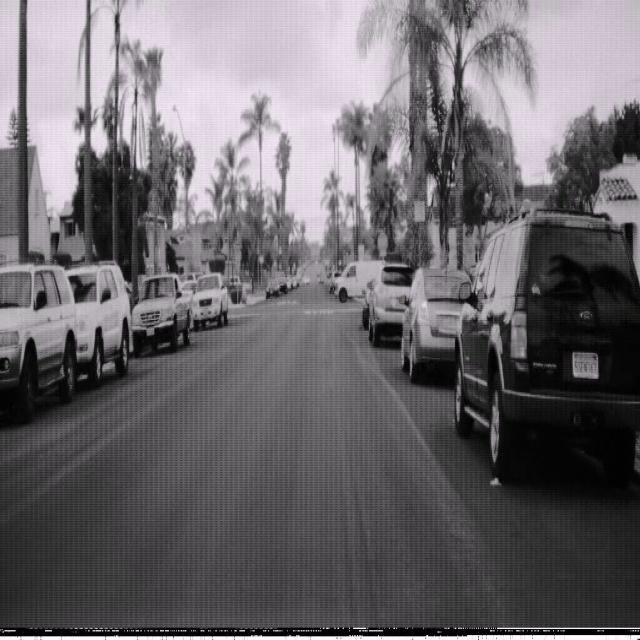stop: (376, 230, 389, 252)
